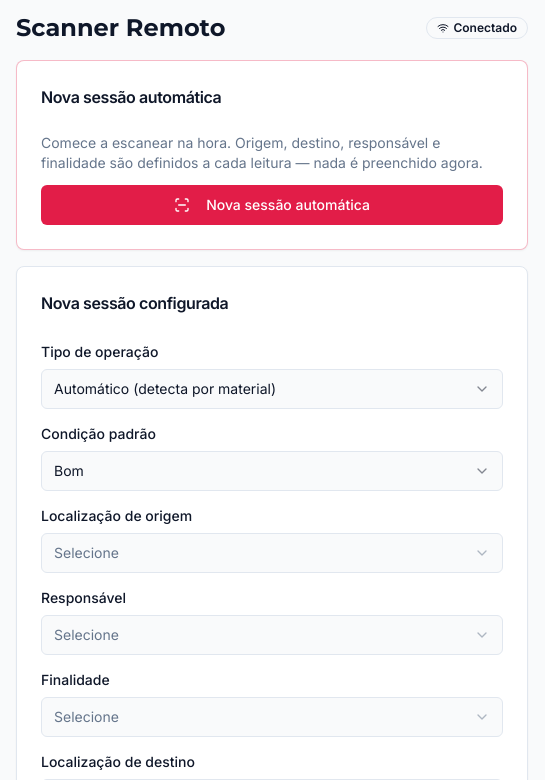
Scenario: ScannerRemoto - E4: leitura read-only na sessão automática › leitura encontrada não movimenta nada: sem registerRead, sem o pré-check do fluxo antigo
Click the button "Nova sessão automática".
click(272, 205)  # box [41,185,503,225]
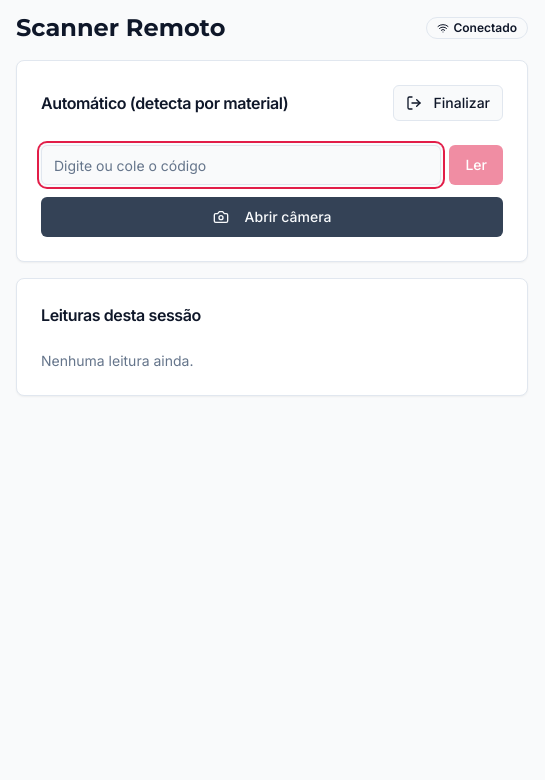
Type "NEO-210-07" into the field with placeholder "Digite ou cole o código".
click(241, 165); type("NEO-210-07")  # box [41,145,441,185]
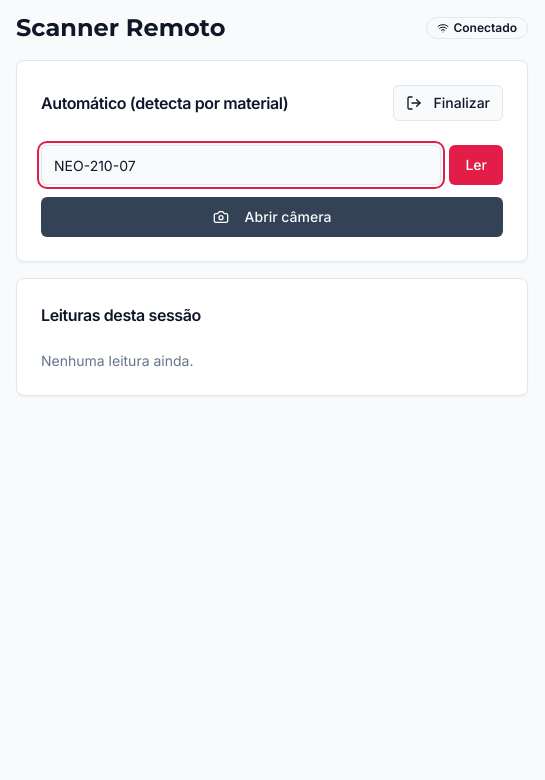
Click the button "Ler".
click(476, 165)  # box [449,145,503,185]
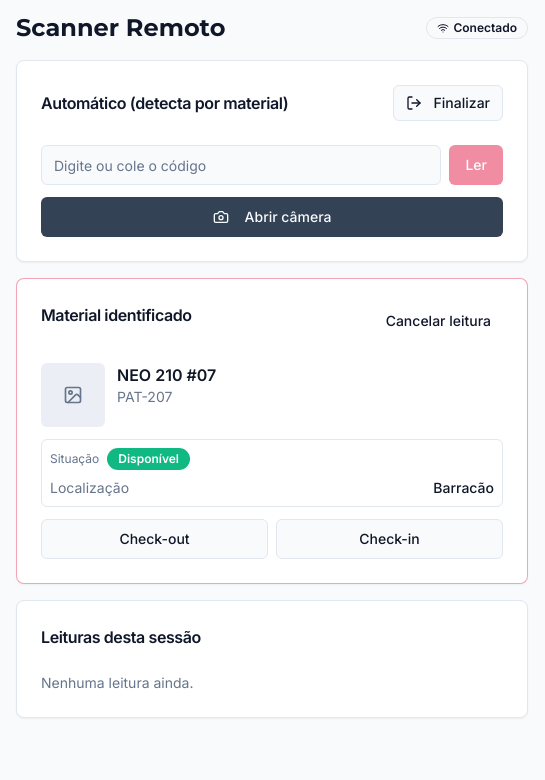
Check: the text "Material identificado" is shown, box [41,303,192,327]
